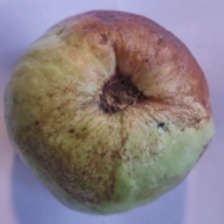guava: (42, 60, 184, 196)
